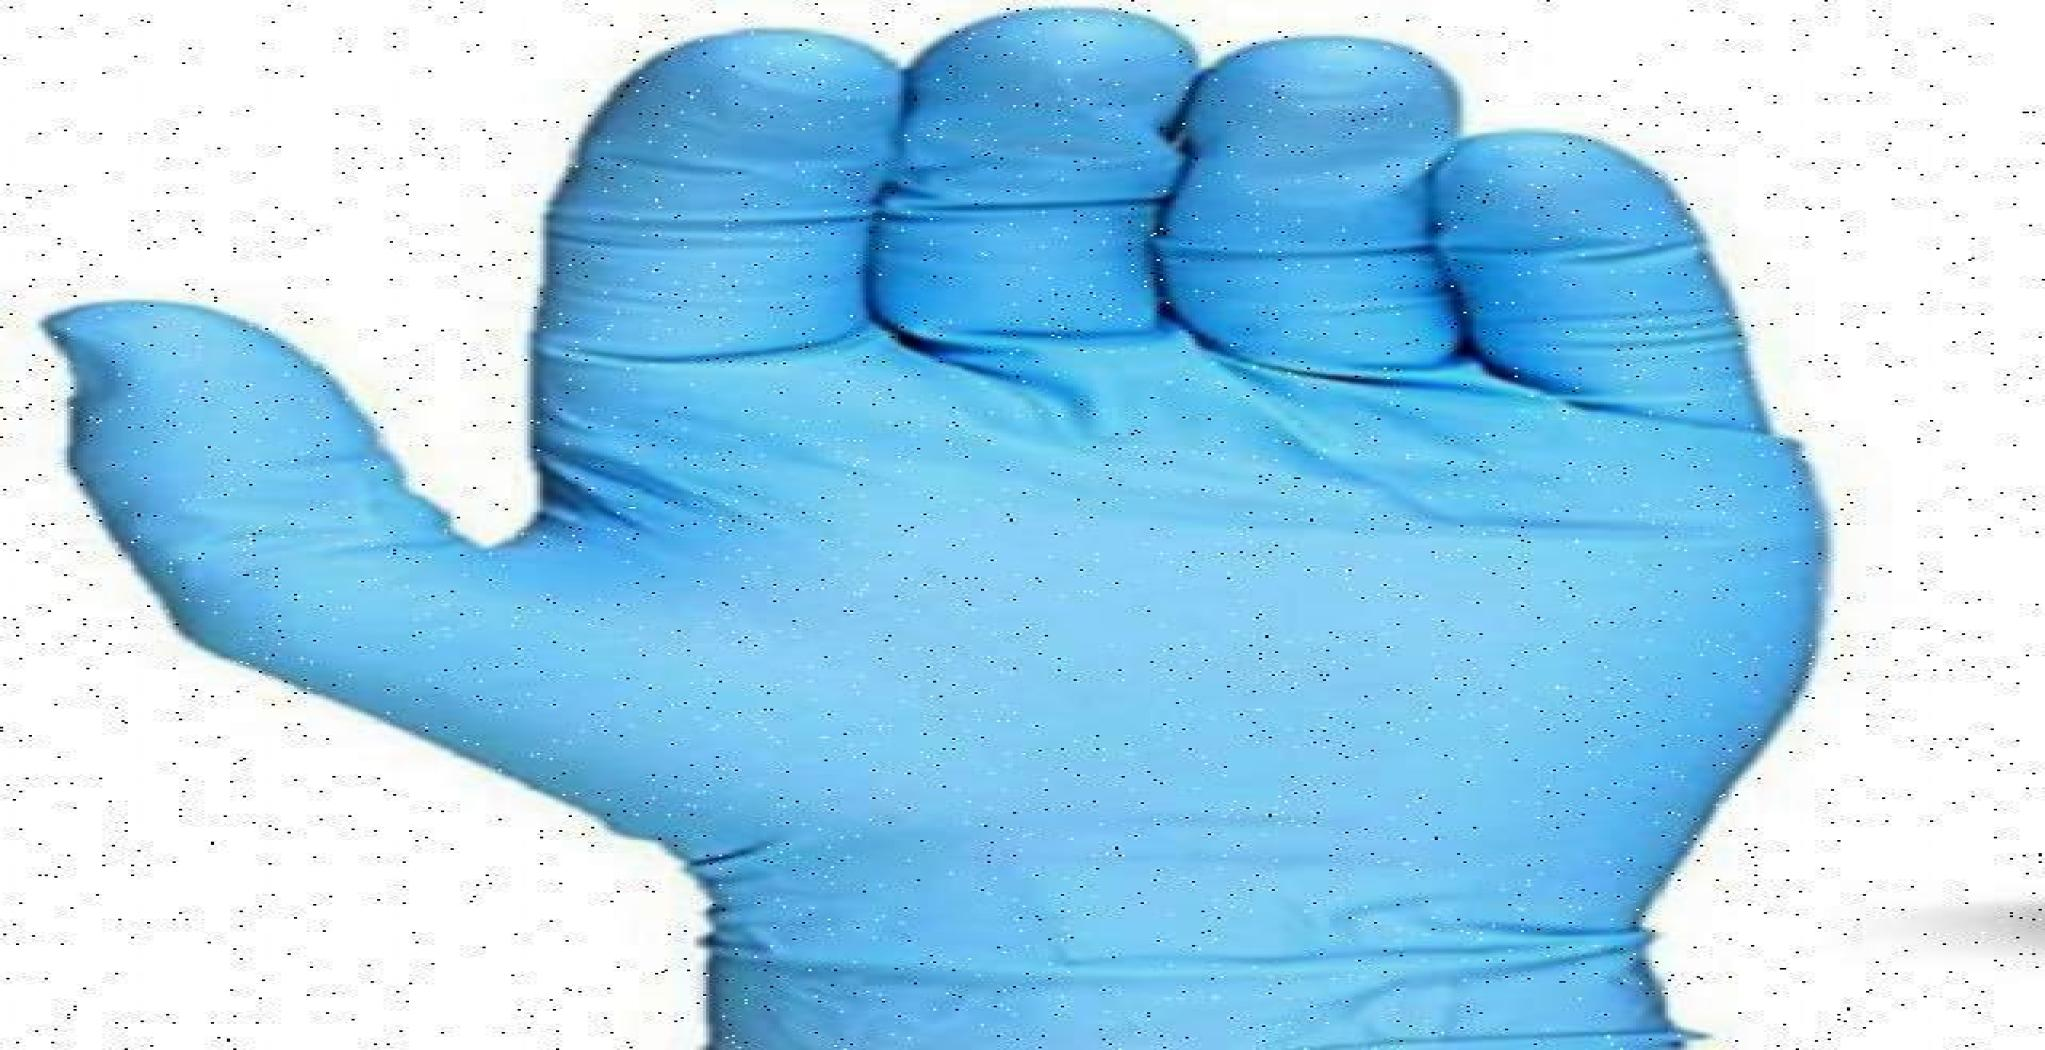gloved: (37, 5, 1833, 1047)
